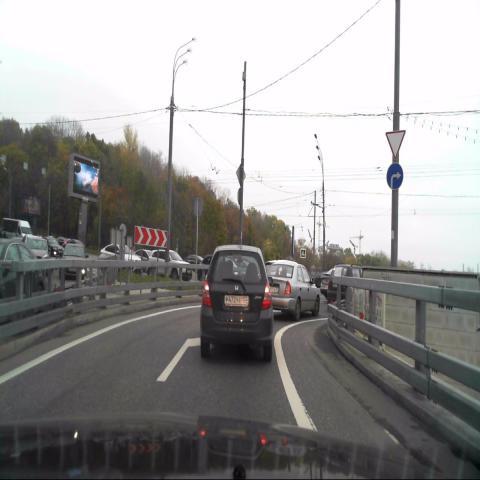4_1_2: (386, 163, 404, 191)
